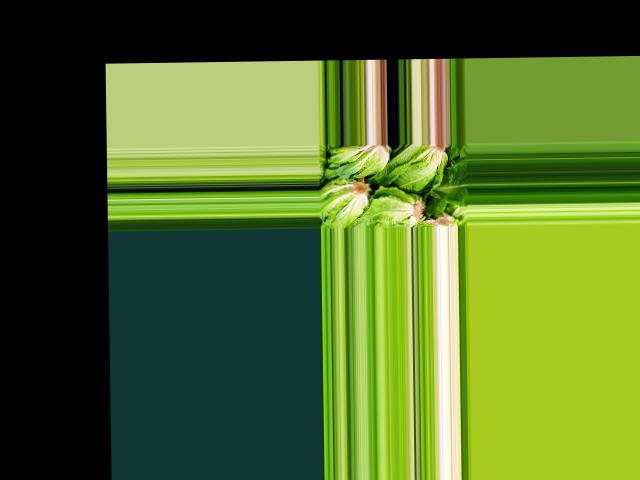lettuce: (433, 171, 469, 206)
